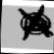not correct: (9, 0, 54, 44)
